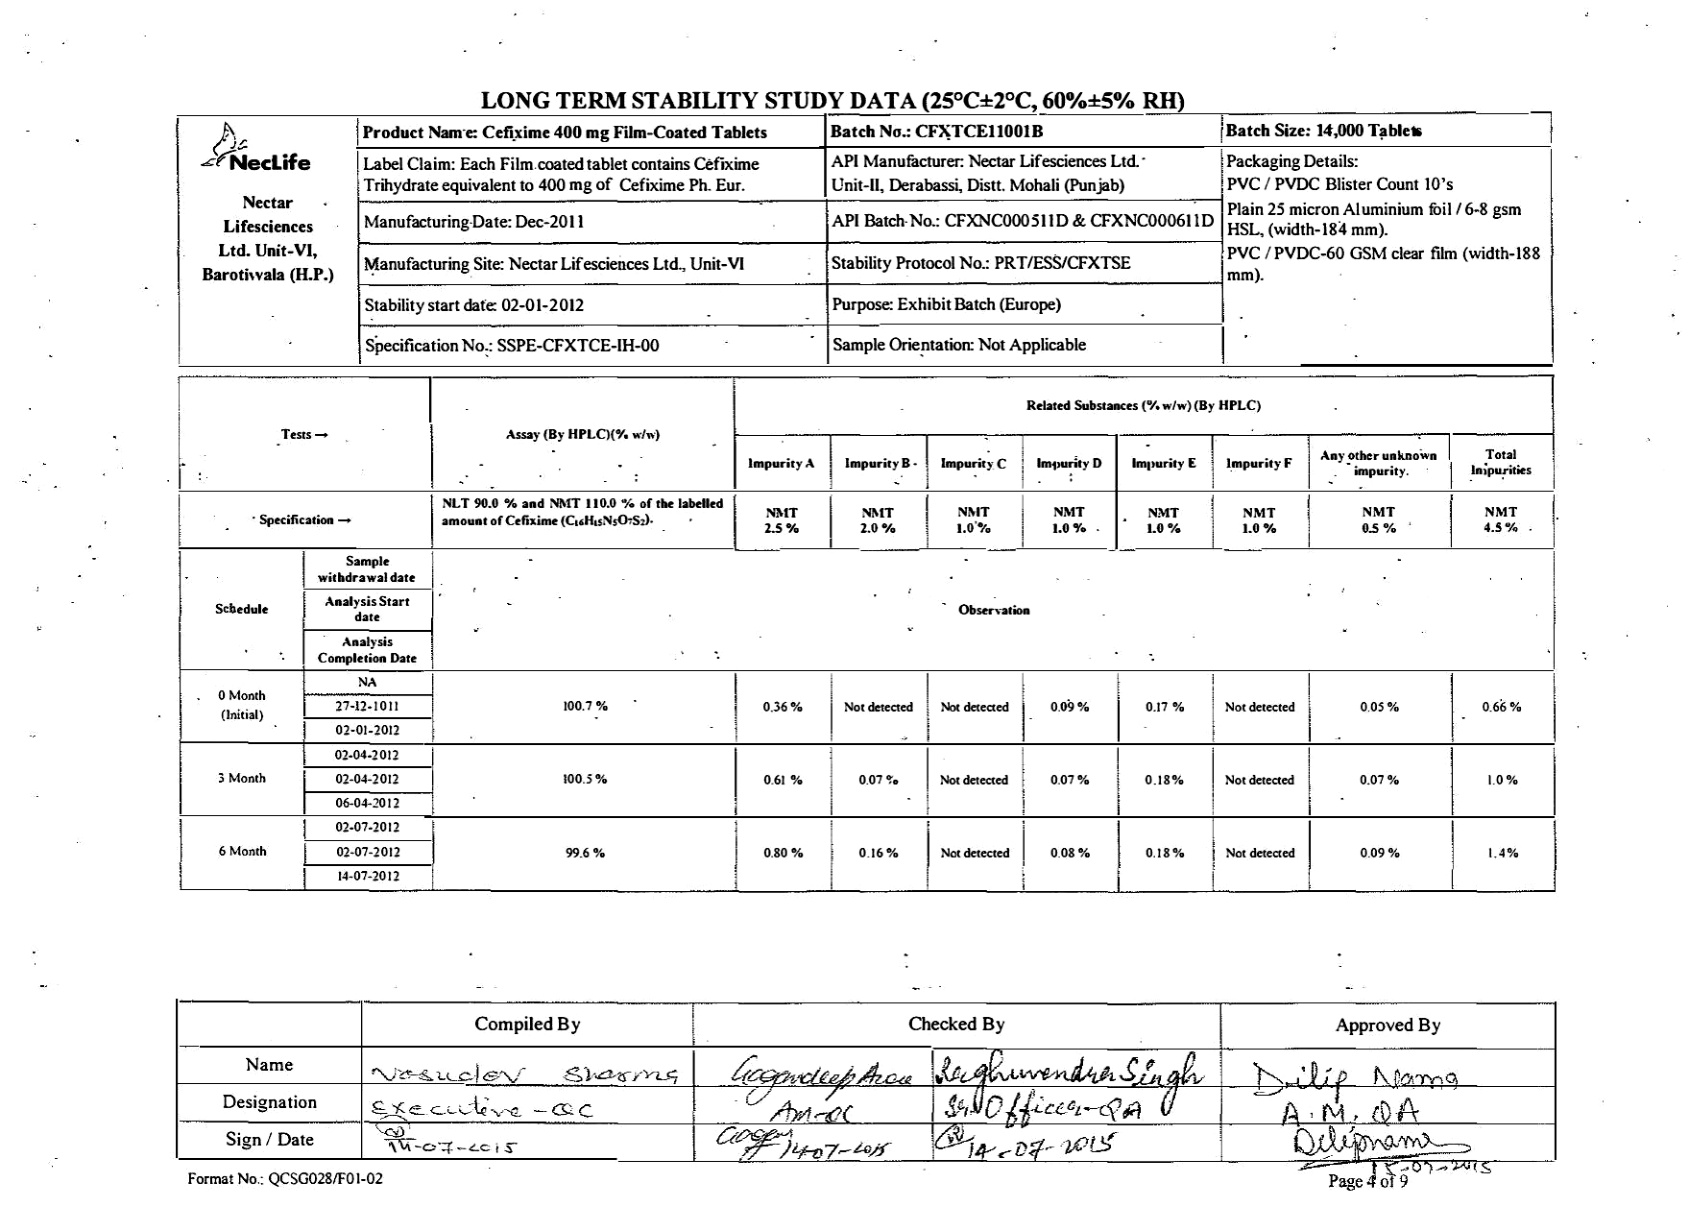merged_cells: (178, 374, 1557, 893), (174, 110, 1555, 367), (174, 999, 1557, 1163)
